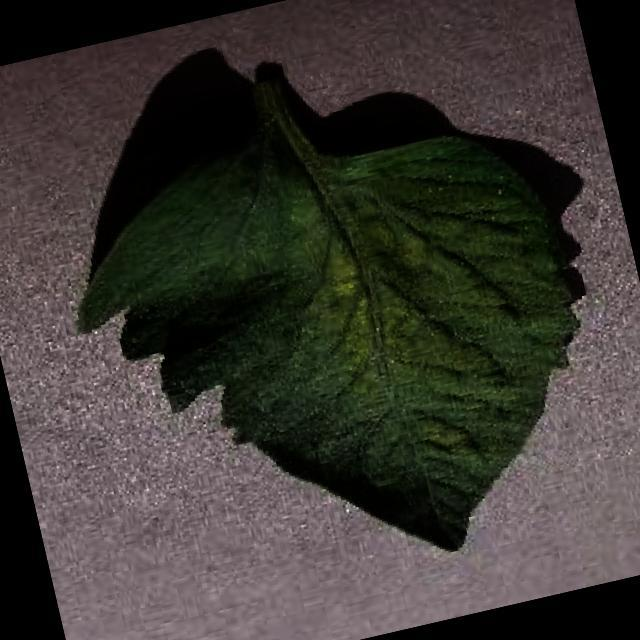Tomato spider mites leaf: (49, 79, 626, 626)
